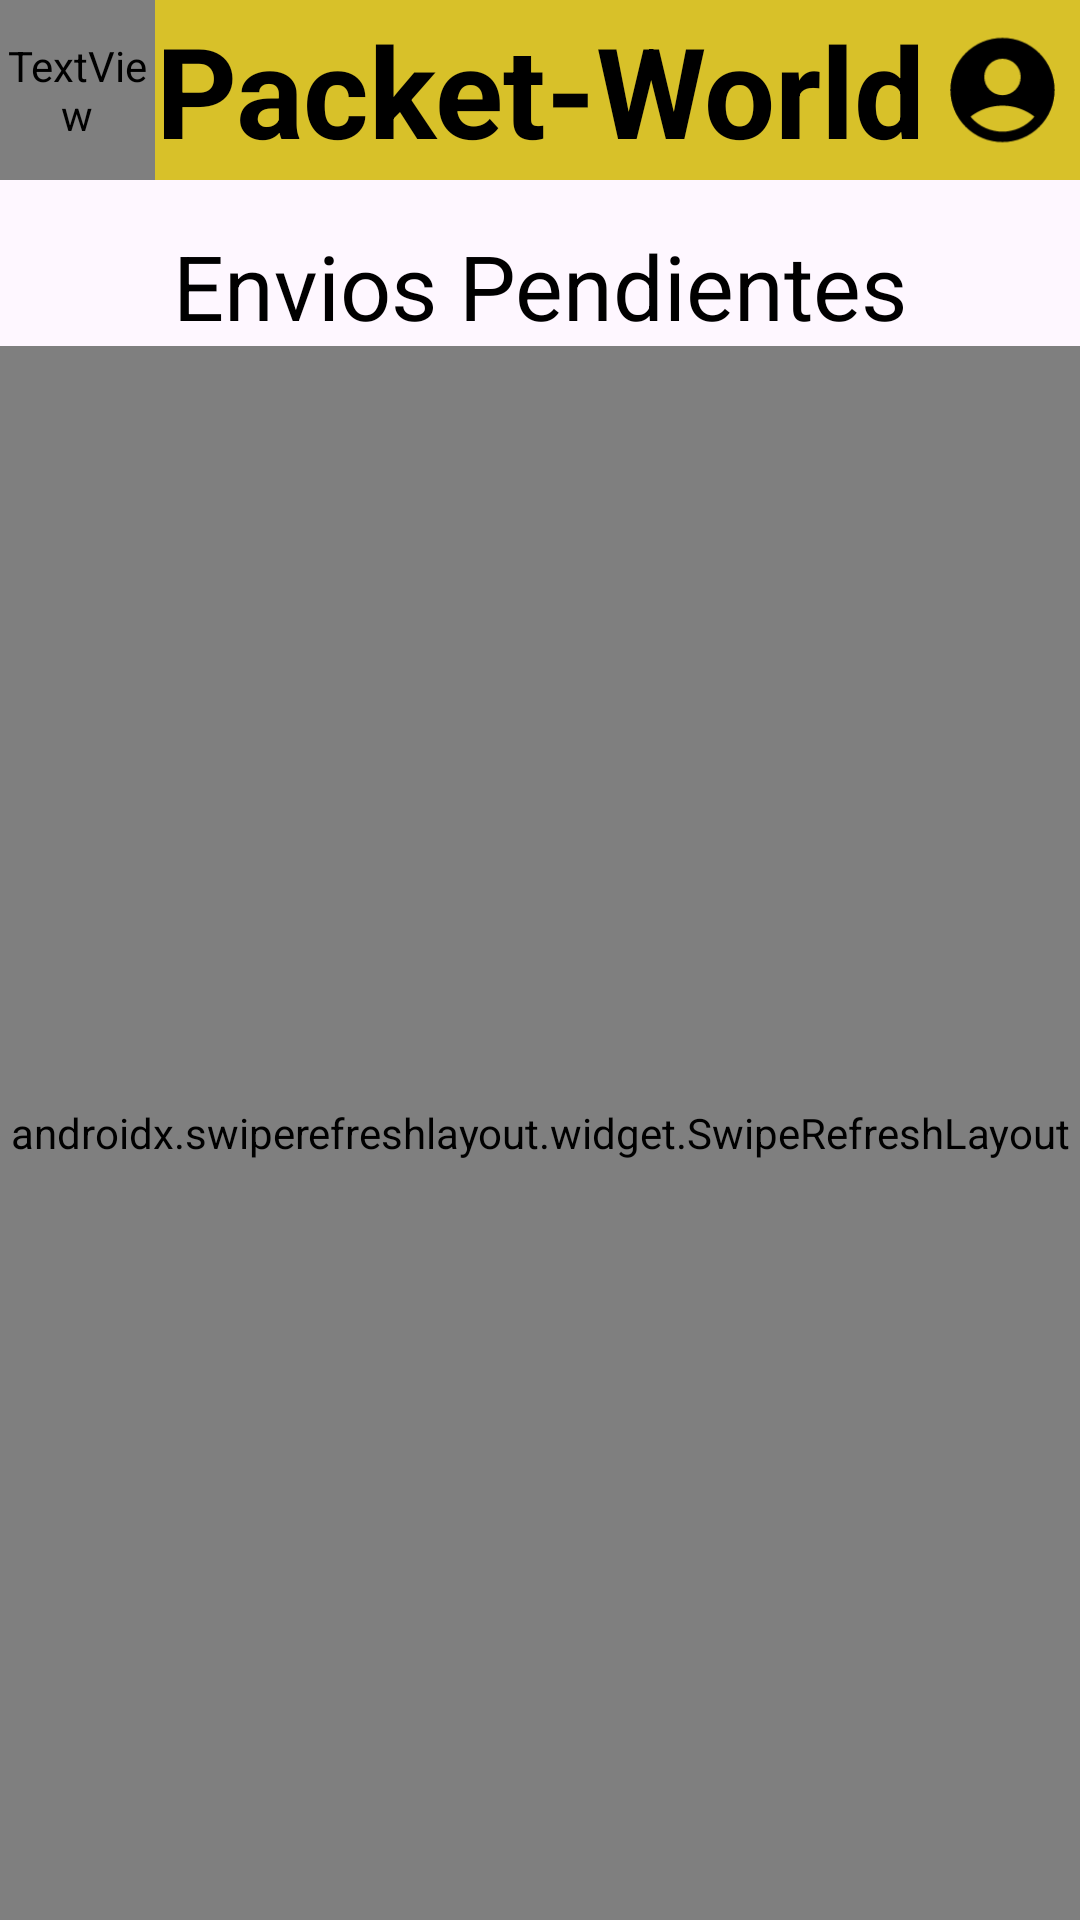

Icon bounding boxes for this 1080w x 1920h phone screenshot, format [x1=x1, y1=y1, x2=x2, y2=y2]:
account circle: [x1=950, y1=37, x2=1055, y2=143]
